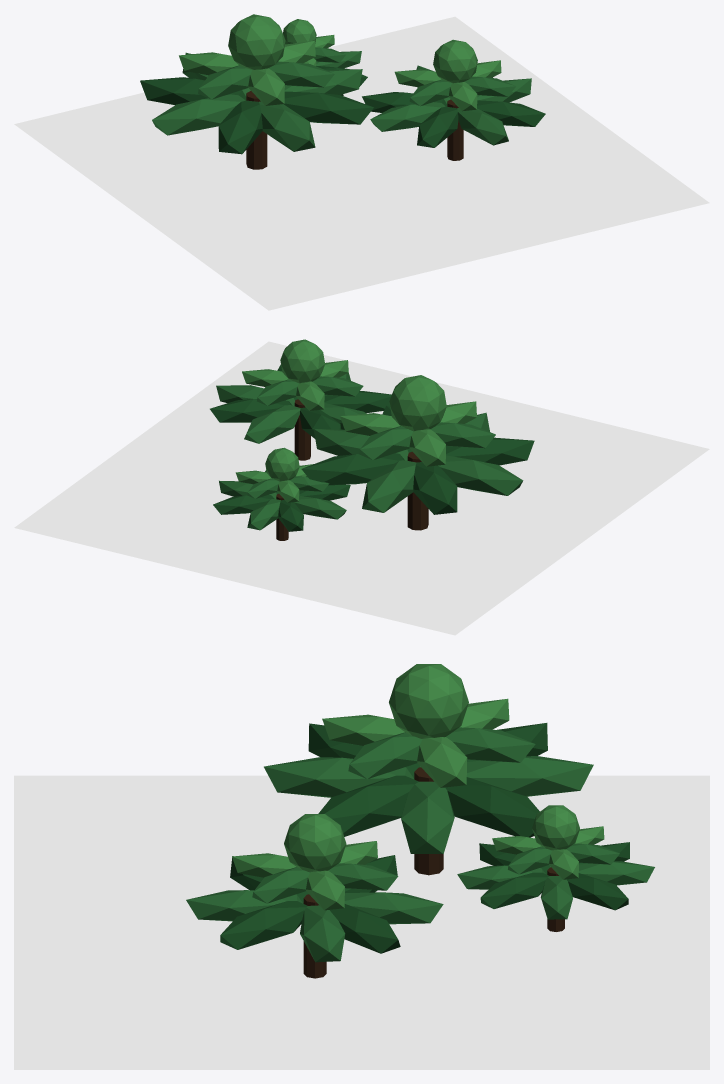
File: forest_topdown.glb
3 views of the same model, one above another, from view 1: azimuth 30°, elevation 25°; view 2: azimuth 150°, elevation 25°; view 3: azimuth 270°, elevation 25° (orthographic). The views are drawn at different scales.
Parts seen in each view (by area): view 1: GRASS, TOP_-0.19_0.1, BRANCH_-0.19_0.1_4, BRANCH_-0.19_0.1_7, BRANCH_-0.19_0.1_5, BRANCH_-0.19_0.1_6, TOP_0.18_-0.07, BRANCH_-0.19_0.1_3, BRANCH_0.18_-0.07_4, BRANCH_0.18_-0.07_6, BRANCH_TOP_-0.19_0.1_5, BRANCH_0.18_-0.07_5 (+15 smaller); view 2: GRASS, TOP_-0.19_0.1, BRANCH_-0.19_0.1_1, BRANCH_-0.19_0.1_4, BRANCH_-0.19_0.1_2, BRANCH_-0.19_0.1_3, BRANCH_-0.19_0.1_5, TOP_0.18_-0.07, BRANCH_0.18_-0.07_2, BRANCH_-0.19_0.1_0, BRANCH_TOP_-0.19_0.1_3, BRANCH_TOP_-0.19_0.1_1 (+19 smaller); view 3: GRASS, TOP_-0.19_0.1, BRANCH_-0.19_0.1_2, BRANCH_-0.19_0.1_1, BRANCH_-0.19_0.1_6, BRANCH_-0.19_0.1_7, BRANCH_-0.19_0.1_0, TOP_0.18_-0.07, BRANCH_0.18_-0.07_7, BRANCH_0.18_-0.07_2, BRANCH_TOP_-0.19_0.1_1, BRANCH_TOP_-0.19_0.1_5 (+25 smaller).
Boxes of the visible parts, x1,y1,x2,y2 form: GRASS: (14, 16, 709, 310); TOP_-0.19_0.1: (228, 14, 285, 69); BRANCH_-0.19_0.1_4: (152, 94, 245, 135); BRANCH_-0.19_0.1_7: (283, 91, 373, 124); BRANCH_-0.19_0.1_5: (218, 100, 262, 154); BRANCH_-0.19_0.1_6: (259, 101, 315, 151); TOP_0.18_-0.07: (433, 39, 477, 83); BRANCH_-0.19_0.1_3: (140, 77, 246, 104); BRANCH_0.18_-0.07_4: (370, 102, 445, 131); BRANCH_0.18_-0.07_6: (457, 108, 508, 145); BRANCH_TOP_-0.19_0.1_5: (269, 61, 334, 87); BRANCH_0.18_-0.07_5: (417, 106, 458, 147); GRASS: (14, 341, 709, 635); TOP_-0.19_0.1: (389, 375, 446, 431); BRANCH_-0.19_0.1_1: (301, 453, 404, 485); BRANCH_-0.19_0.1_4: (438, 455, 523, 495); BRANCH_-0.19_0.1_2: (362, 460, 416, 512); BRANCH_-0.19_0.1_3: (413, 462, 457, 514); BRANCH_-0.19_0.1_5: (446, 437, 534, 465); TOP_0.18_-0.07: (280, 339, 324, 383); BRANCH_0.18_-0.07_2: (244, 405, 300, 443); BRANCH_-0.19_0.1_0: (313, 429, 408, 460); BRANCH_TOP_-0.19_0.1_3: (430, 422, 495, 448); BRANCH_TOP_-0.19_0.1_1: (359, 426, 412, 460); GRASS: (14, 775, 709, 1069); TOP_-0.19_0.1: (389, 664, 468, 738); BRANCH_-0.19_0.1_2: (466, 756, 593, 796); BRANCH_-0.19_0.1_1: (445, 777, 539, 837); BRANCH_-0.19_0.1_6: (264, 757, 414, 797); BRANCH_-0.19_0.1_7: (318, 775, 418, 836); BRANCH_-0.19_0.1_0: (401, 781, 454, 853); TOP_0.18_-0.07: (284, 814, 346, 872); BRANCH_0.18_-0.07_7: (220, 901, 307, 949); BRANCH_0.18_-0.07_2: (344, 892, 443, 924); BRANCH_TOP_-0.19_0.1_1: (446, 727, 535, 762); BRANCH_TOP_-0.19_0.1_5: (348, 732, 422, 779).
Bounding box in the file's own units: 1.04 × 0.335 × 1.04.
